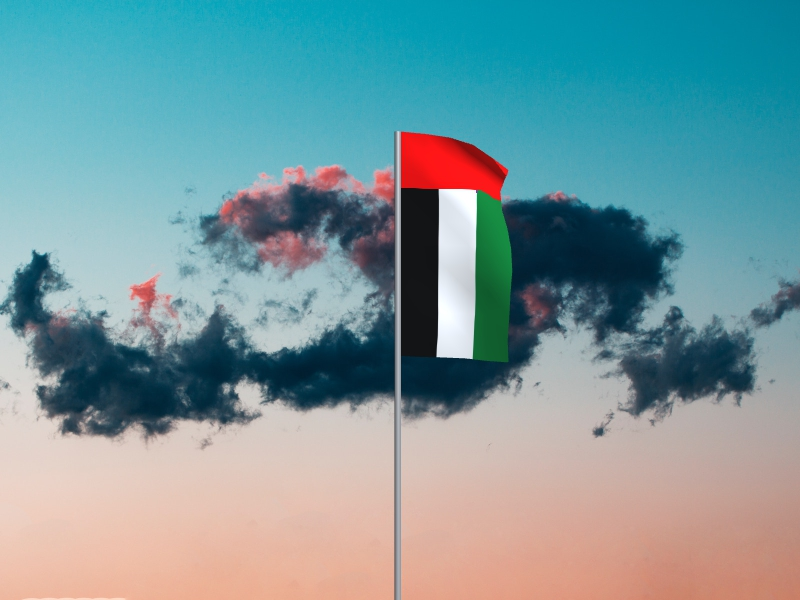ae: (402, 133, 514, 363)
